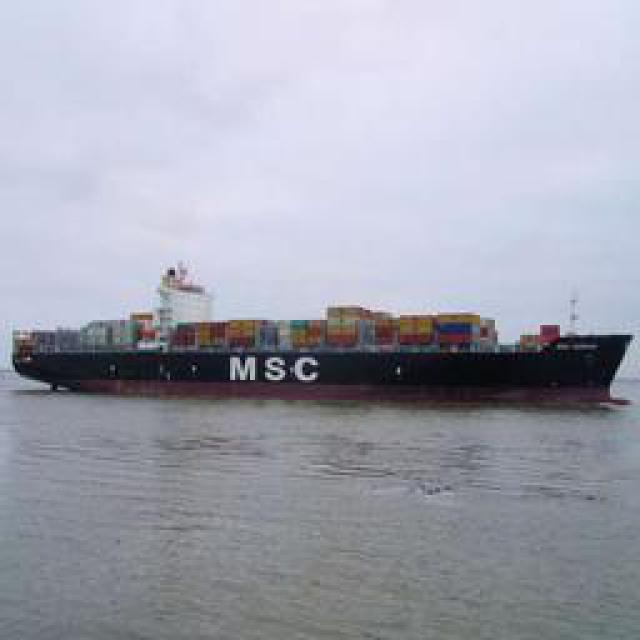Ship: (9, 274, 632, 404)
